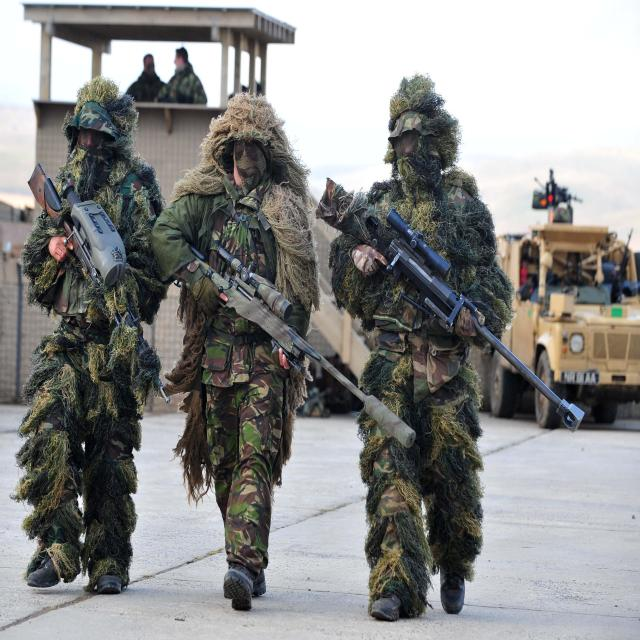Weapon: (191, 246, 415, 445), (366, 209, 535, 383), (535, 383, 583, 430)
